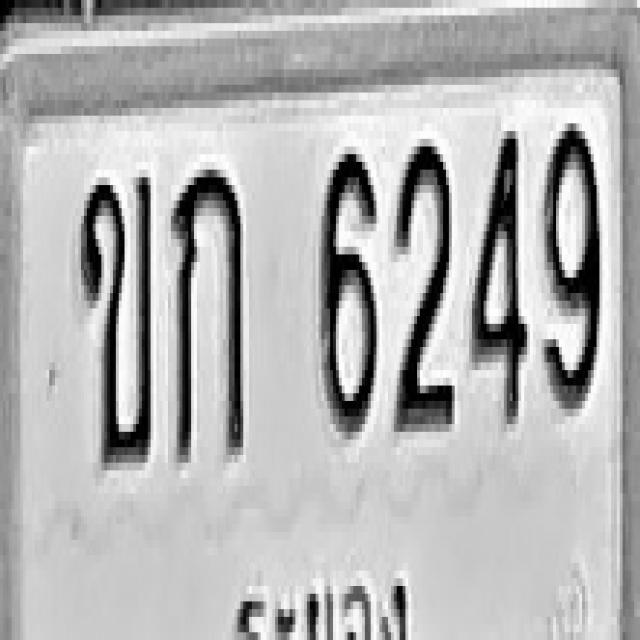10GorGai: (171, 162, 243, 463)
11KhorKhai: (78, 170, 151, 462)
2: (394, 139, 452, 432)
4: (469, 123, 527, 424)
6: (318, 146, 376, 432)
9: (542, 115, 600, 408)
